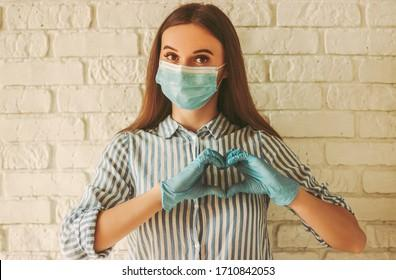gloves: (226, 148, 299, 211), (161, 149, 228, 214)
